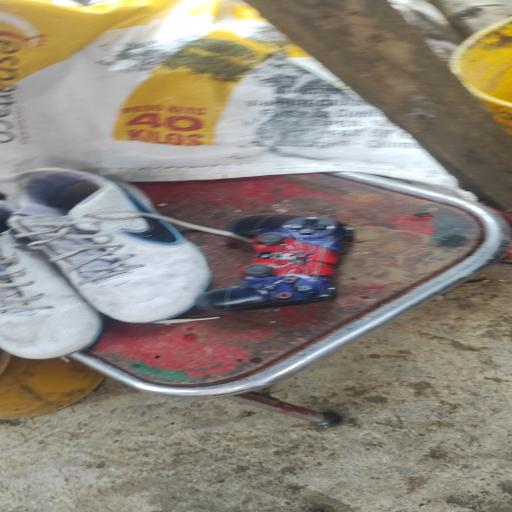ControlPlay4: (198, 215, 353, 310)
